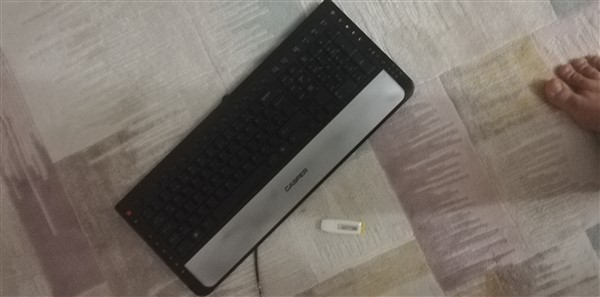flash disk: (320, 215, 366, 242)
klavye: (113, 1, 418, 292)
